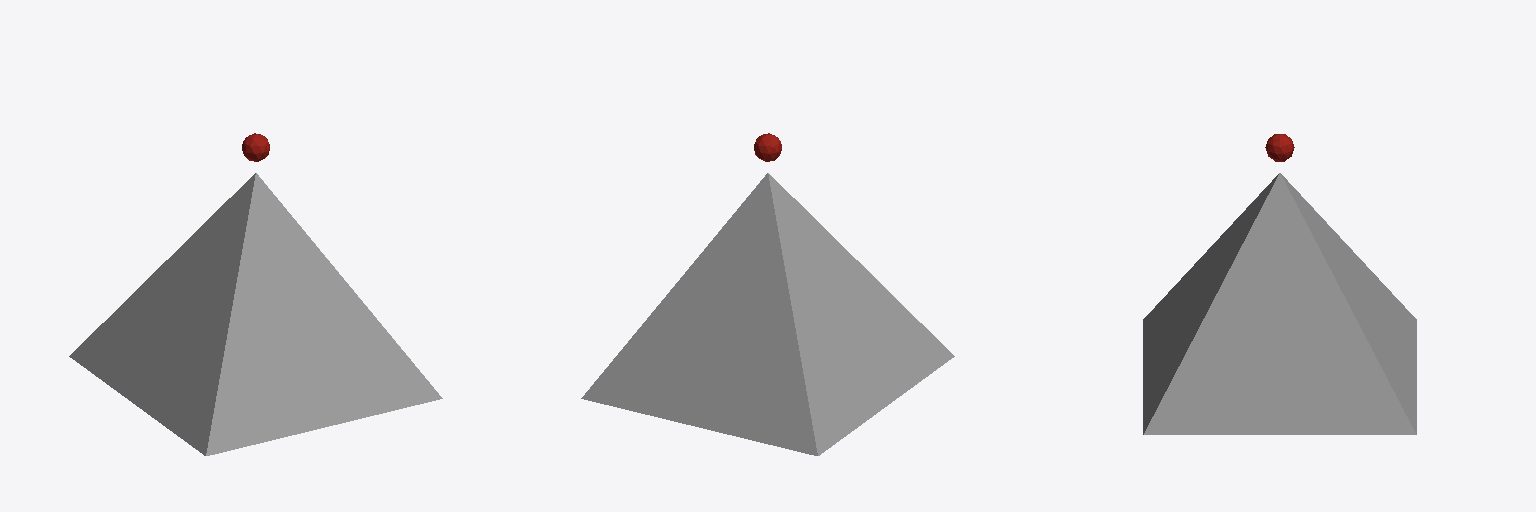
The model's file is piramida.obj.
3 renders of one model, left to right at view 1: azimuth 30°, elevation 25°; view 2: azimuth 150°, elevation 25°; view 3: azimuth 270°, elevation 25°, orthographic.
Parts seen in each view (by area): view 1: Cube_Cube.004; view 2: Cube_Cube.004; view 3: Cube_Cube.004.
Boxes of the visible parts, x1=… form: Cube_Cube.004: x1=69, y1=133, x2=442, y2=455; Cube_Cube.004: x1=581, y1=133, x2=954, y2=455; Cube_Cube.004: x1=1143, y1=134, x2=1416, y2=434.
Size of the model in its own units: 199 by 195 by 199.